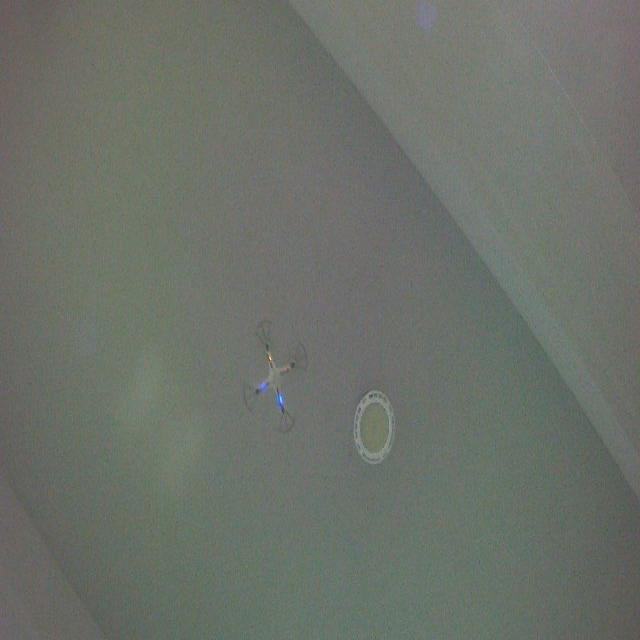drone: (241, 316, 310, 439)
